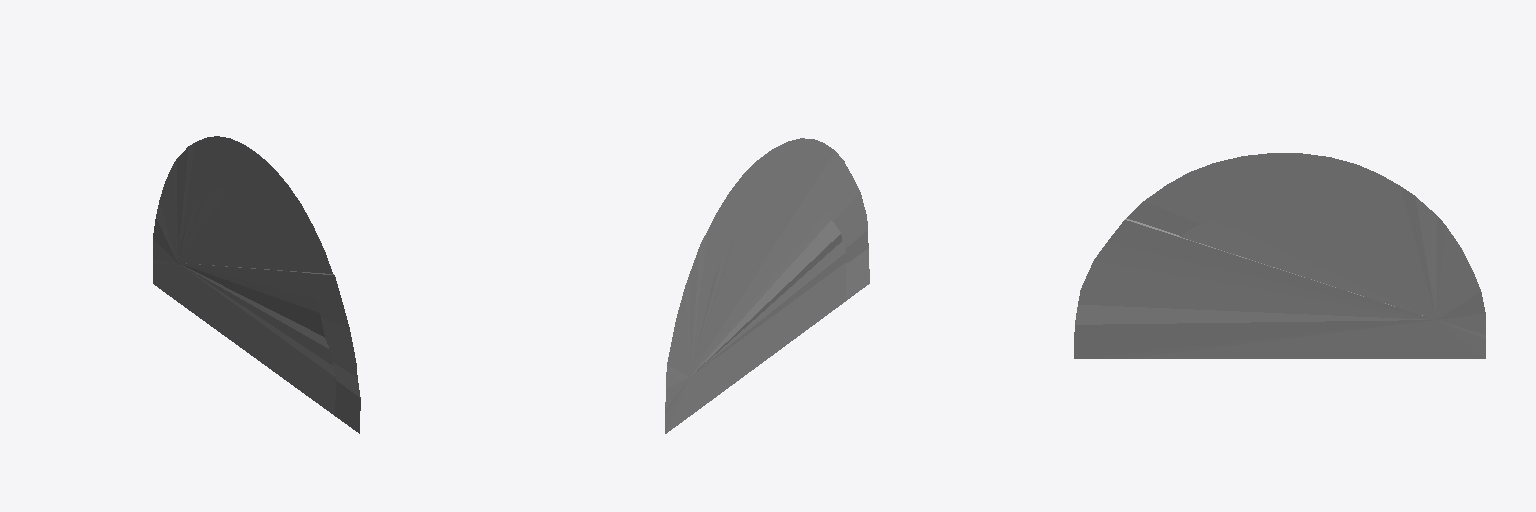
The model's file is transportir.obj.
3 views of the same model, side by side, from view 1: azimuth 30°, elevation 25°; view 2: azimuth 150°, elevation 25°; view 3: azimuth 270°, elevation 25° (orthographic).
Parts seen in each view (by area): view 1: Плоскость_Плоскость.003; view 2: Плоскость_Плоскость.003; view 3: Плоскость_Плоскость.003.
Boxes of the visible parts, <box> form: Плоскость_Плоскость.003: <box>153,136,360,433</box>; Плоскость_Плоскость.003: <box>665,138,869,433</box>; Плоскость_Плоскость.003: <box>1074,153,1485,358</box>.
Size of the model in its own units: 0.0053 by 0.2465 by 0.446.